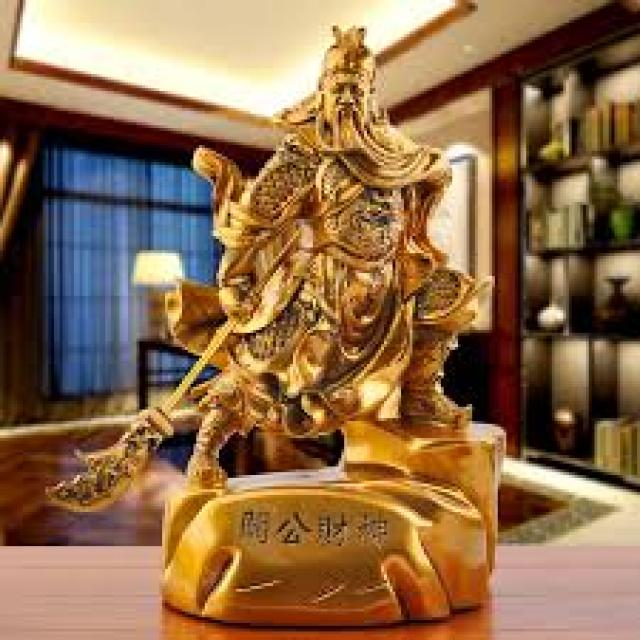Guan Yu: (263, 12, 426, 359)
